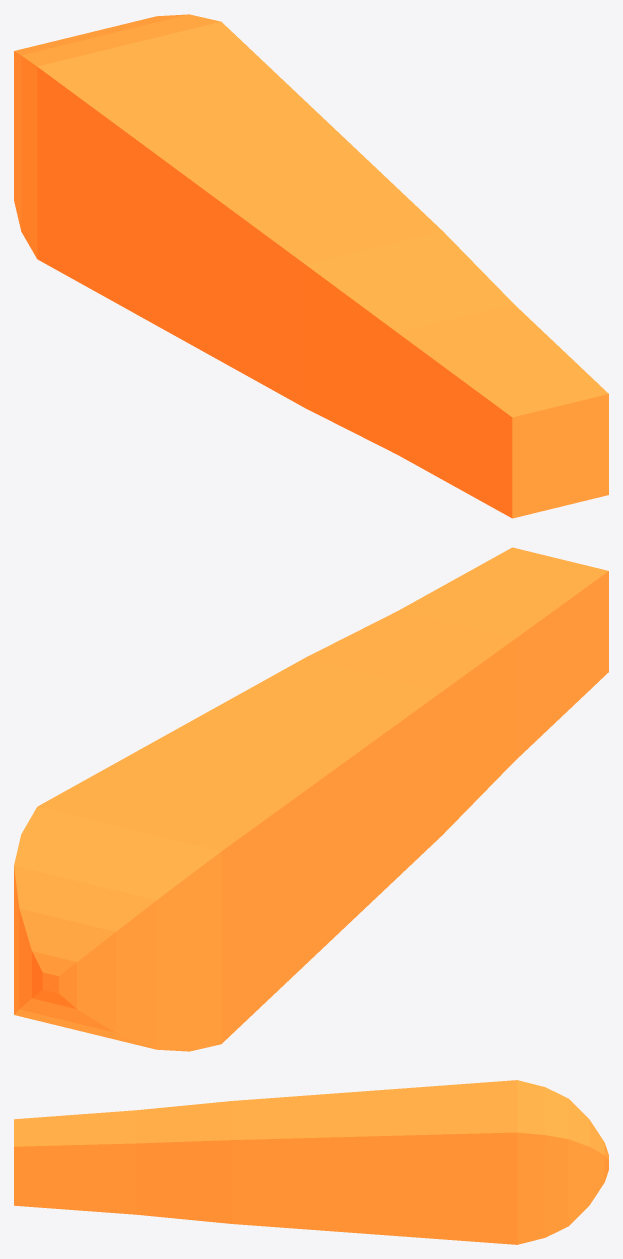
The model's file is lazer_bullet2.glb.
3 renders of one model, top to bottom at view 1: azimuth 30°, elevation 25°; view 2: azimuth 150°, elevation 25°; view 3: azimuth 270°, elevation 25°, orthographic. The views are drawn at different scales.
Parts seen in each view (by area): view 1: Cube; view 2: Cube; view 3: Cube.
Boxes of the visible parts, x1=… form: Cube: x1=14, y1=14, x2=608, y2=518; Cube: x1=14, y1=547, x2=608, y2=1051; Cube: x1=14, y1=1080, x2=608, y2=1244.
Bounding box in the file's own units: 25.05 × 25.05 × 120.
